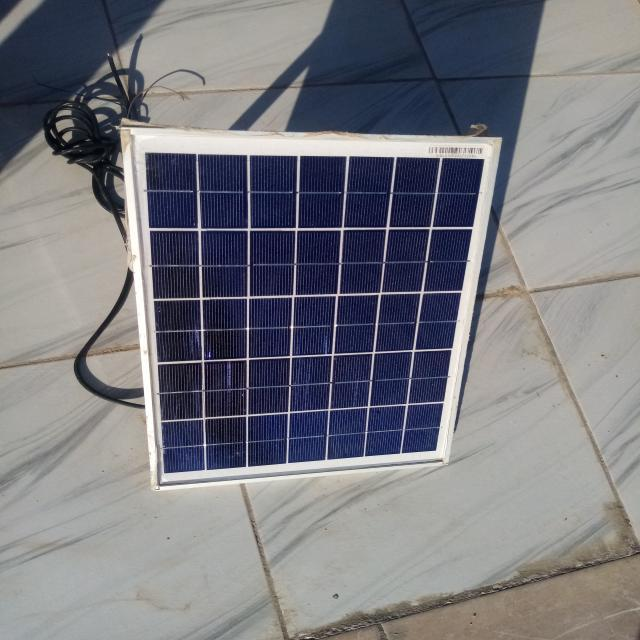no faulty: (123, 129, 503, 488)
